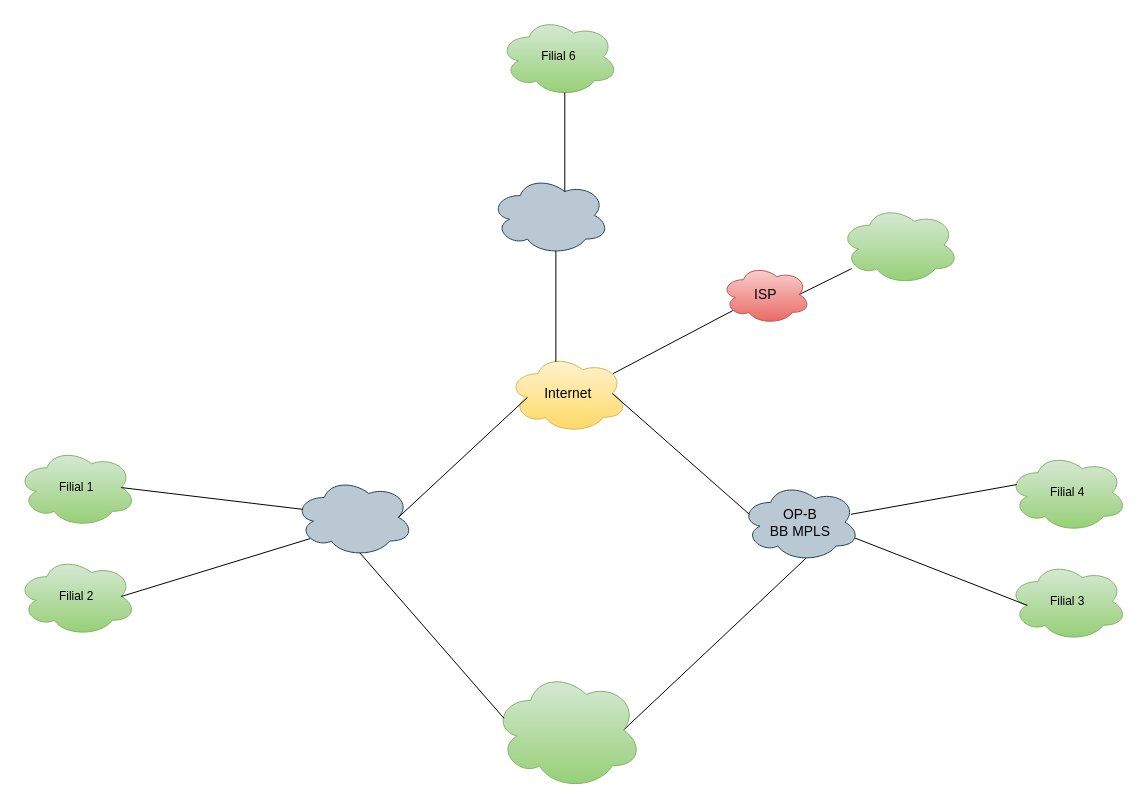
Some shapes in this 1144 by 807 pixel diagram are drawn without their labels. The shapes that lost their labels are listed below. From the top down, each one's box as (x1, y1, x2, y2) in pixels, then its label:
(490, 175, 609, 255): OP-C BB MPLS
(839, 204, 959, 285): Filial 5
(294, 477, 413, 557): OP-A BB MPLS
(493, 670, 642, 790): Matriz
